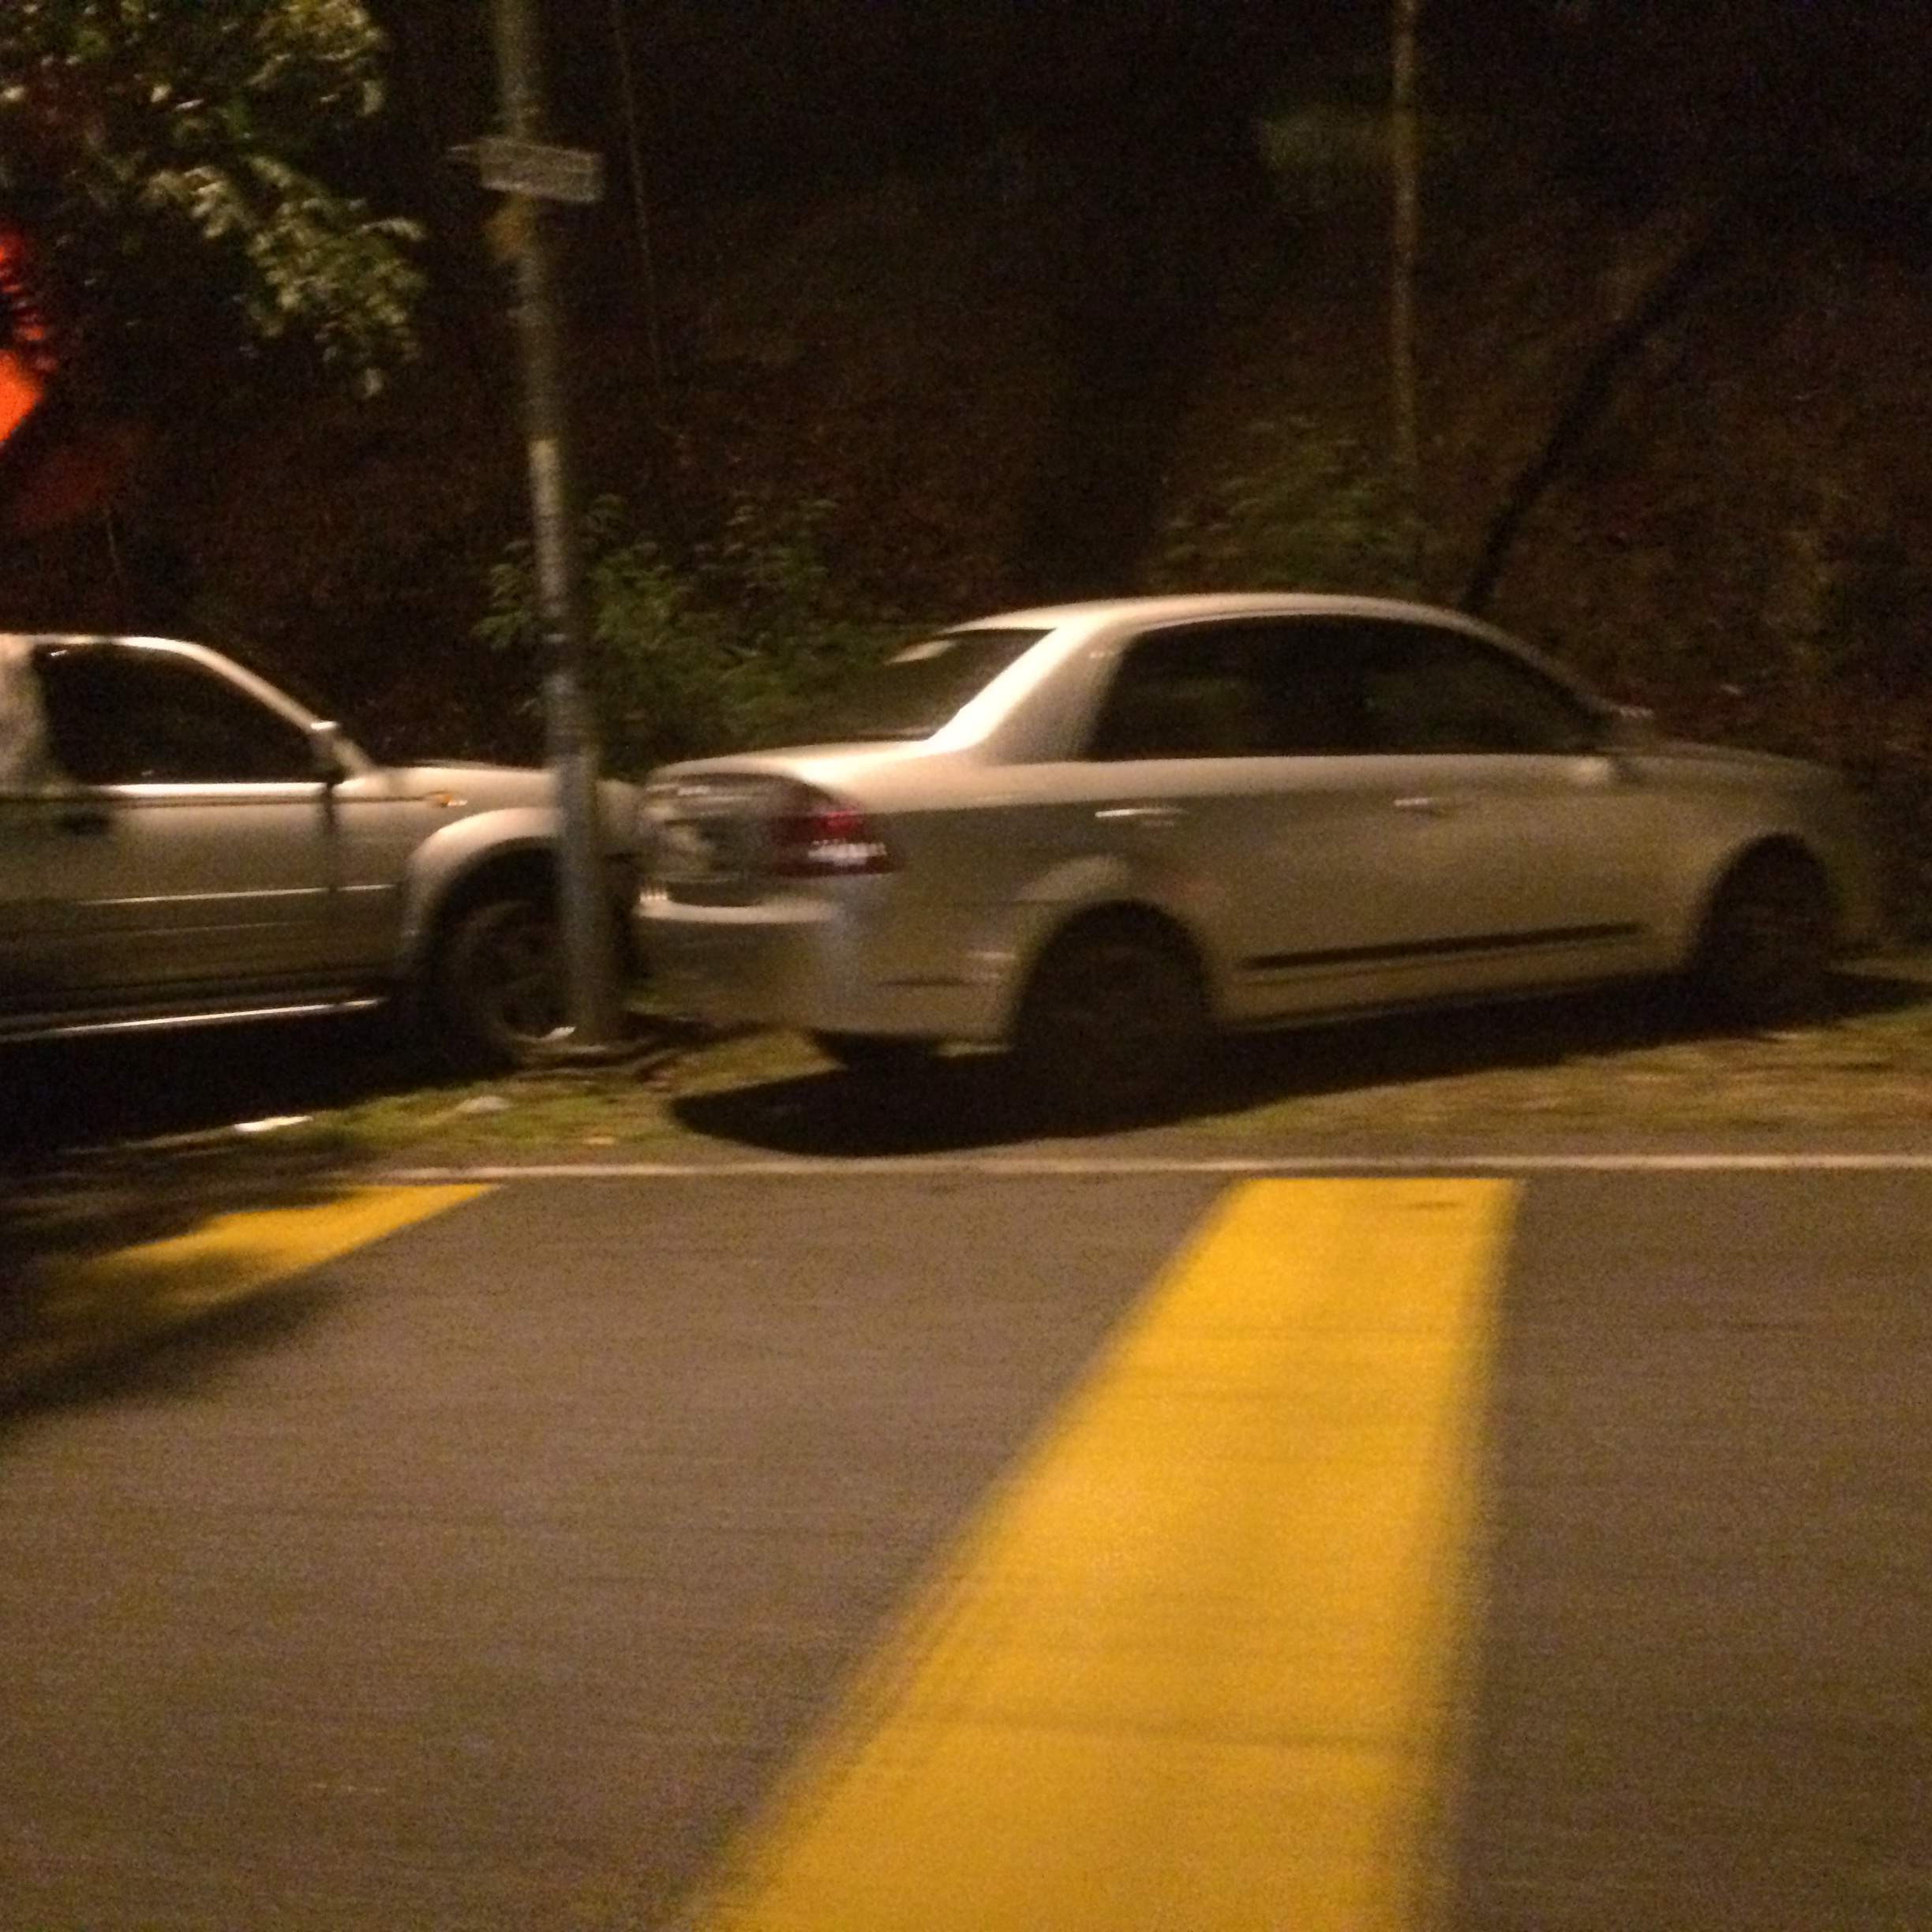car: (607, 561, 1884, 1141)
